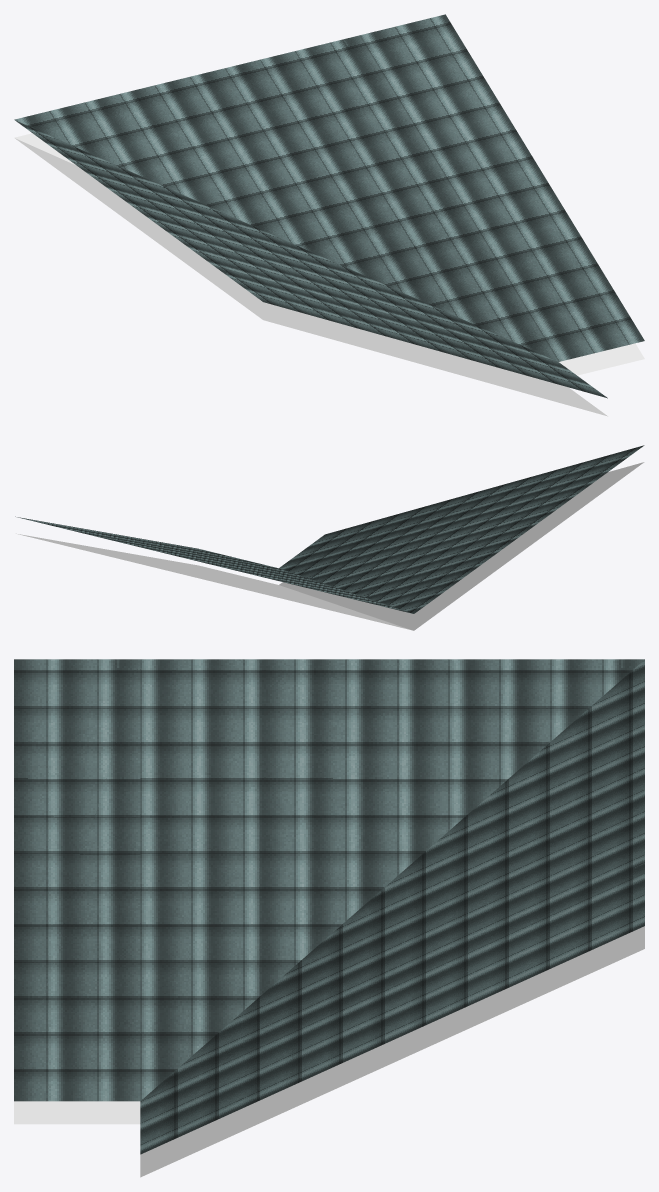
File: roof_inner_corner_5x5.glb
The picture shows the model from 3 angles, top to bottom: view 1: azimuth 30°, elevation 25°; view 2: azimuth 150°, elevation 25°; view 3: azimuth 270°, elevation 25°; orthographic projection. The views are drawn at different scales.
Parts seen in each view (by area): view 1: roof_inner_corner_5x5; view 2: roof_inner_corner_5x5; view 3: roof_inner_corner_5x5.
Boxes of the visible parts, x1,y1,x2,y2 form: roof_inner_corner_5x5: (14,14,644,416); roof_inner_corner_5x5: (15,445,644,630); roof_inner_corner_5x5: (14,659,644,1177).
Size of the model in its own units: 5 by 2.2 by 5.
Materials: 2 (1 with a texture image).
